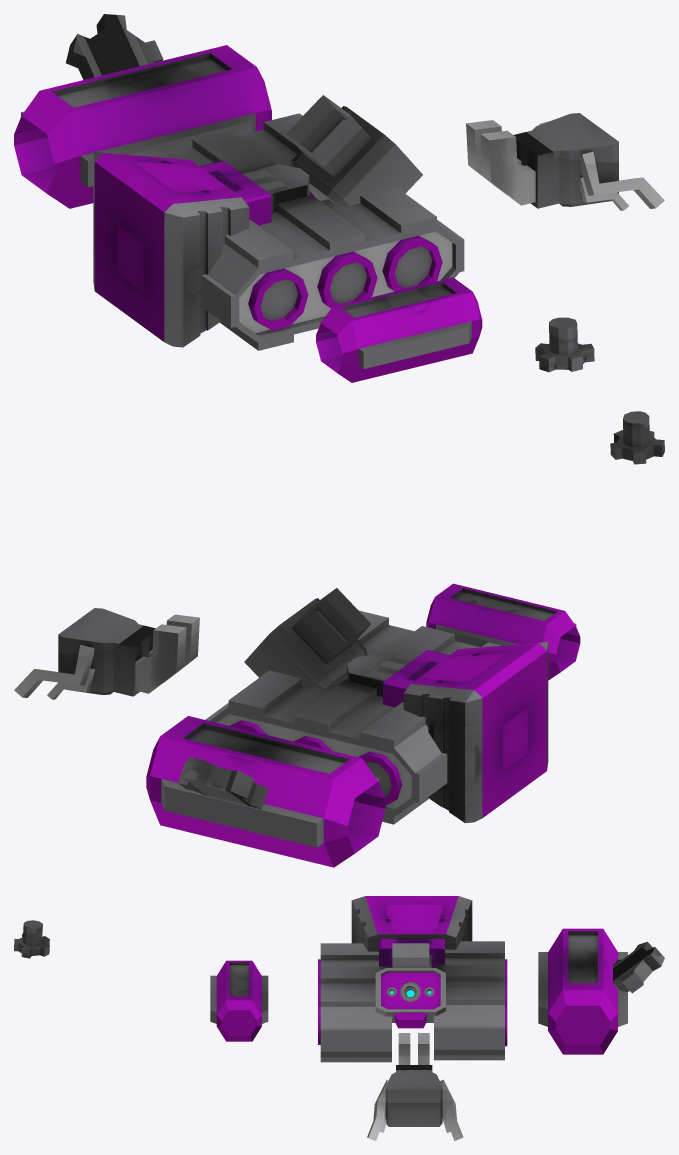
The model's file is Enemy2_Die27.obj.
3 renders of one model, top to bottom at view 1: azimuth 30°, elevation 25°; view 2: azimuth 150°, elevation 25°; view 3: azimuth 270°, elevation 25°, orthographic. The views are drawn at different scales.
Parts seen in each view (by area): view 1: Object006, Object013, Object011, Object014, Object010, Object012, Object009, Object008; view 2: Object011, Object013, Object006, Object010, Object014, Object012, Object009, Object008; view 3: Object006, Object011, Object013, Object010, Object012, Object014, Object009, Object008.
Part boxes in pixels (left/top/right/bottom): Object006: left=129, top=113, right=464, bottom=350; Object013: left=93, top=152, right=309, bottom=347; Object011: left=14, top=45, right=271, bottom=208; Object014: left=316, top=277, right=482, bottom=382; Object010: left=466, top=113, right=664, bottom=210; Object012: left=286, top=95, right=422, bottom=205; Object009: left=66, top=14, right=163, bottom=79; Object008: left=535, top=317, right=594, bottom=372; Object011: left=146, top=716, right=385, bottom=867; Object013: left=347, top=642, right=548, bottom=823; Object006: left=205, top=610, right=501, bottom=824; Object010: left=14, top=608, right=199, bottom=699; Object014: left=426, top=583, right=580, bottom=680; Object012: left=244, top=588, right=370, bottom=688; Object009: left=178, top=757, right=268, bottom=809; Object008: left=610, top=411, right=664, bottom=464; Object006: left=318, top=941, right=507, bottom=1062; Object011: left=538, top=928, right=627, bottom=1054; Object013: left=351, top=896, right=472, bottom=967; Object010: left=367, top=1033, right=463, bottom=1140; Object012: left=375, top=943, right=445, bottom=1028; Object014: left=210, top=960, right=268, bottom=1041; Object009: left=613, top=941, right=664, bottom=993; Object008: left=14, top=920, right=49, bottom=958.
Bounding box in the file's own units: 187 × 60.76 × 313.
